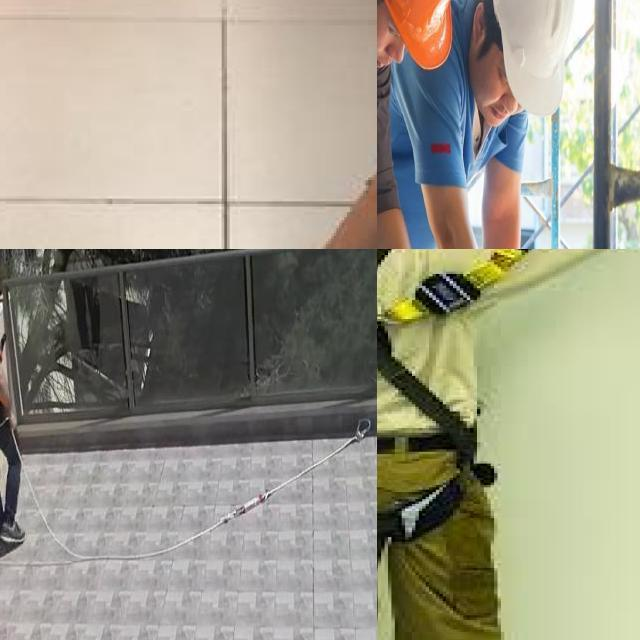Harness: (26, 418, 373, 563), (377, 249, 480, 543)
No_Ear-Protection: (470, 0, 490, 52)
